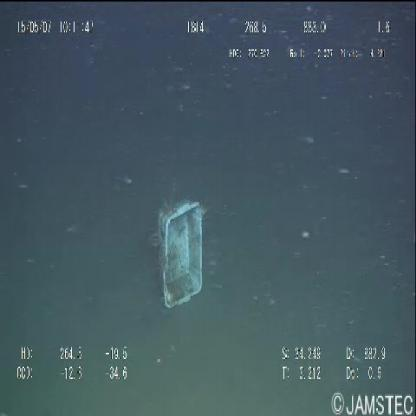Rác: (150, 196, 208, 310)
